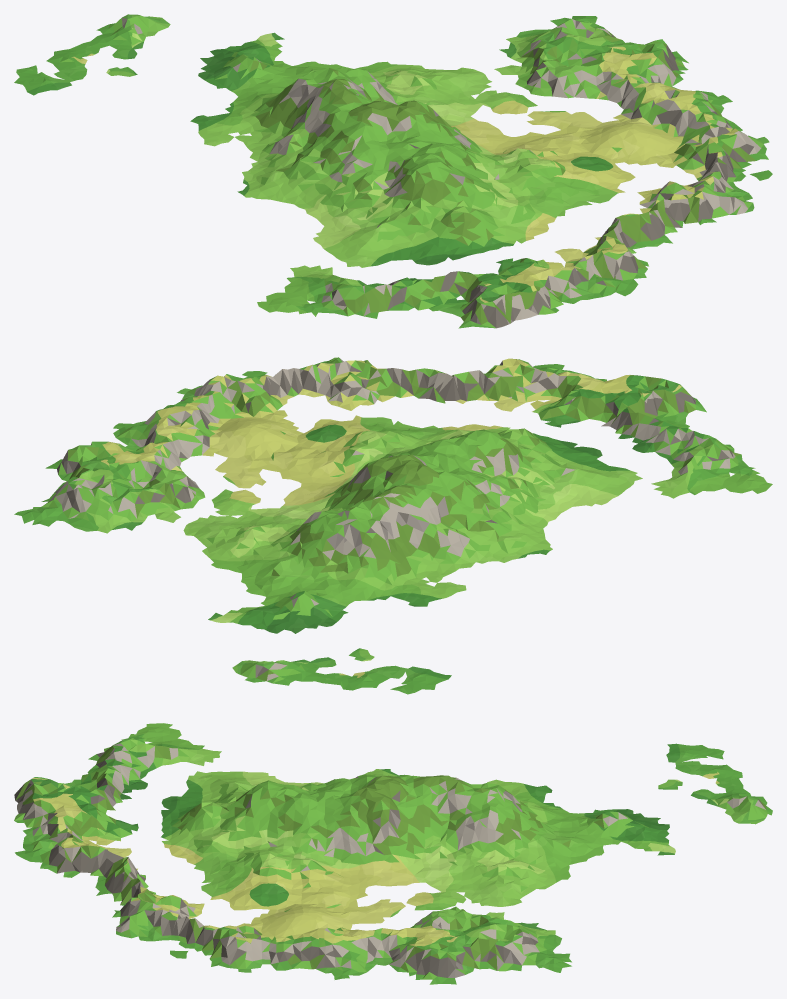
File: Isl-hilly6-Relief.fbx
3 views of the same model, one above another, from view 1: azimuth 30°, elevation 25°; view 2: azimuth 150°, elevation 25°; view 3: azimuth 270°, elevation 25° (orthographic). The views are drawn at different scales.
Parts seen in each view (by area): view 1: Isl-hilly6-Relief-c21, Isl-hilly6-Relief-c11, Isl-hilly6-Relief-c22, Isl-hilly6-Relief-c12; view 2: Isl-hilly6-Relief-c21, Isl-hilly6-Relief-c22, Isl-hilly6-Relief-c11, Isl-hilly6-Relief-c12; view 3: Isl-hilly6-Relief-c21, Isl-hilly6-Relief-c22, Isl-hilly6-Relief-c11, Isl-hilly6-Relief-c12.
Part boxes in pixels (x1,y1,x2,y2): Isl-hilly6-Relief-c21: [372, 82, 772, 303]; Isl-hilly6-Relief-c11: [243, 108, 563, 328]; Isl-hilly6-Relief-c22: [217, 16, 688, 135]; Isl-hilly6-Relief-c12: [14, 14, 371, 194]; Isl-hilly6-Relief-c21: [113, 357, 606, 493]; Isl-hilly6-Relief-c22: [14, 441, 422, 631]; Isl-hilly6-Relief-c11: [423, 375, 772, 551]; Isl-hilly6-Relief-c12: [232, 466, 548, 694]; Isl-hilly6-Relief-c21: [15, 776, 384, 979]; Isl-hilly6-Relief-c22: [380, 775, 675, 984]; Isl-hilly6-Relief-c11: [14, 723, 383, 827]; Isl-hilly6-Relief-c12: [382, 743, 772, 827].
Size of the model in its own units: 75.57 by 7.41 by 93.22.
